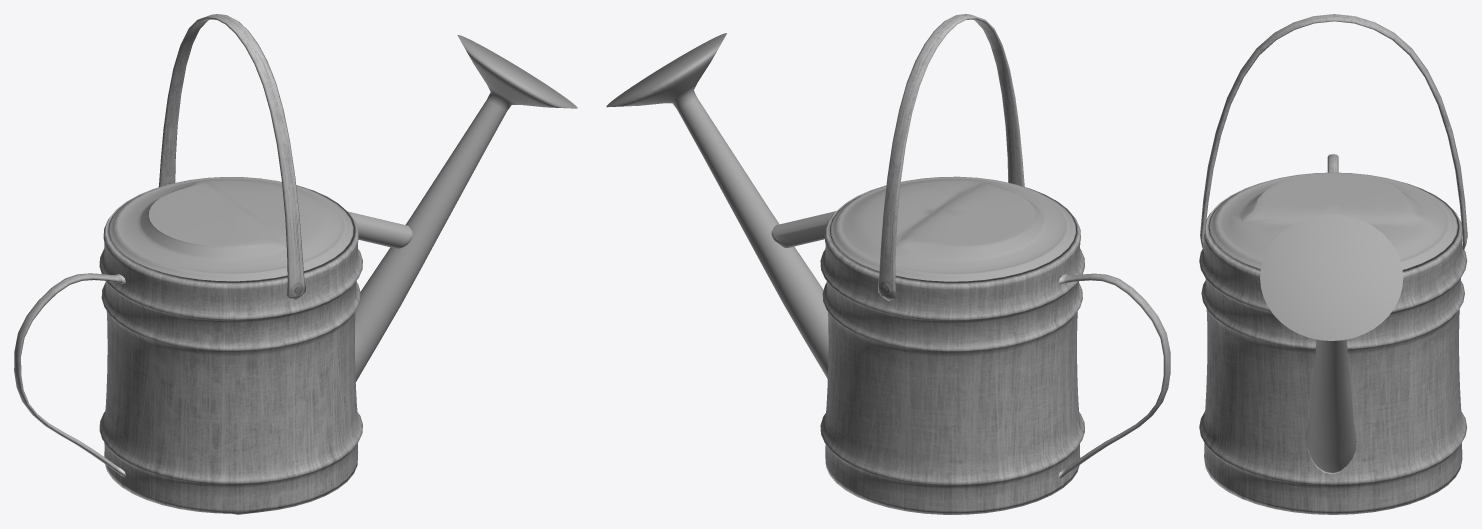
File: Watering Can_lidded.fbx
The picture shows the model from 3 angles, left to right: view 1: azimuth 30°, elevation 25°; view 2: azimuth 150°, elevation 25°; view 3: azimuth 270°, elevation 25°; orthographic projection.
Visible parts, largest first — view 1: watering_can1; view 2: watering_can1; view 3: watering_can1.
Part boxes in pixels (x1,y1,x2,y2): watering_can1: (14,14,577,514); watering_can1: (606,14,1170,514); watering_can1: (1199,14,1467,514).
Size of the model in its own units: 94.99 by 72.48 by 39.56.
